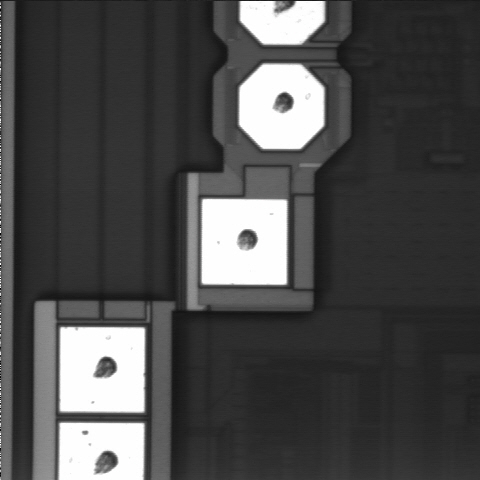pad: (202, 199, 287, 285), (239, 64, 324, 149), (60, 327, 145, 412)
